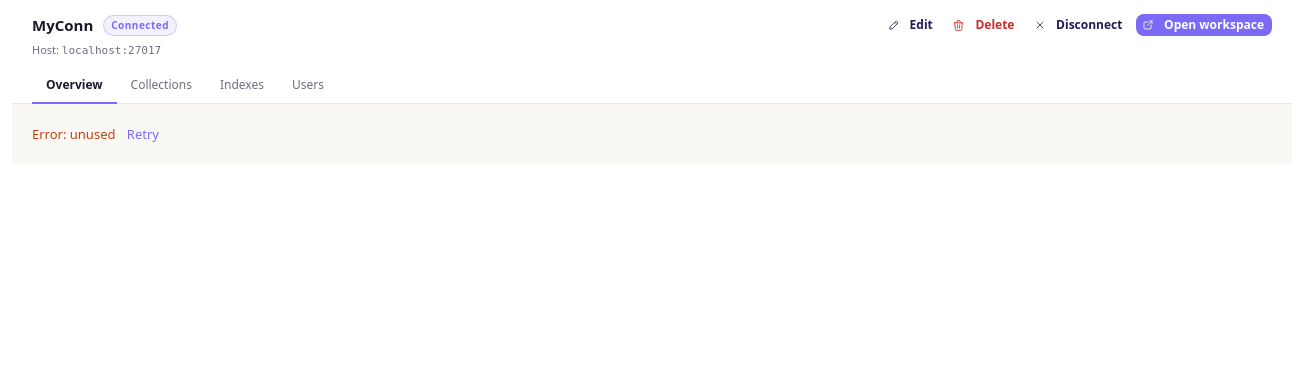
Test: DetailPanel — CollectionsTab keyed by a db named "constructor" › loads and renders the collection list instead of getting stuck open and empty
Click the button "Collections" at (161,87), box [116,69,206,104]
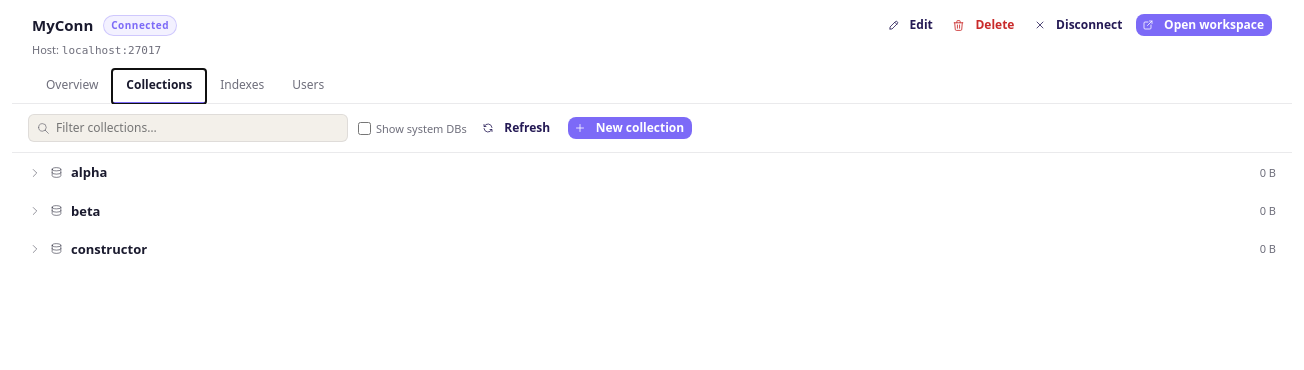
Click the text "constructor" at (109,249), box [71,240,147,258]
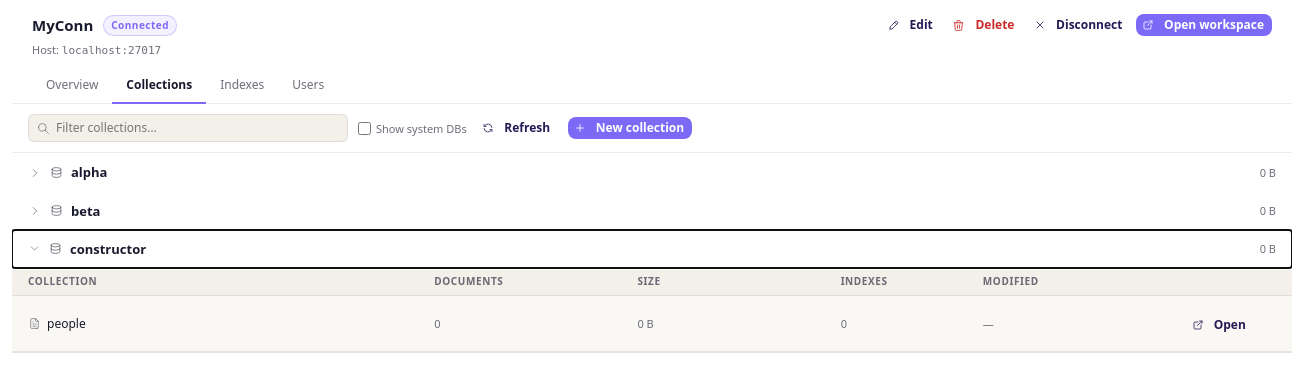
Check: the text "constructor" is shown, box [70,240,146,258]
Check: the text "people" is shown, box [47,314,86,333]
